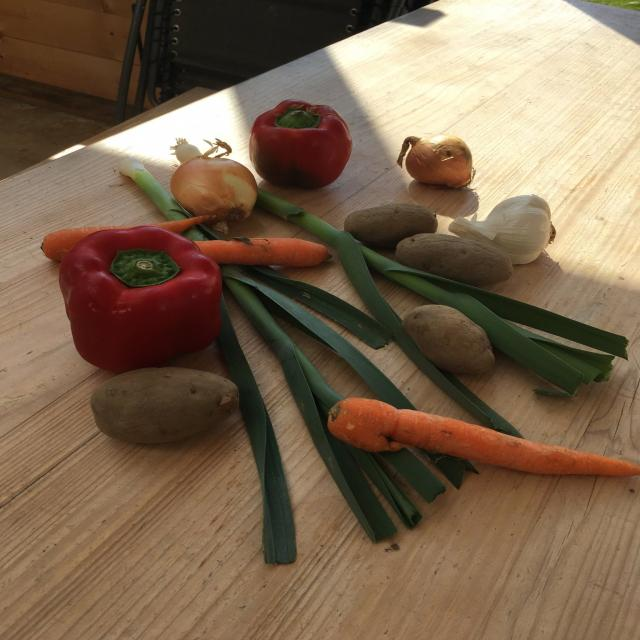carrot: (326, 394, 640, 484), (37, 210, 213, 262), (191, 239, 338, 268)
garlic: (450, 189, 563, 268)
leek: (109, 148, 472, 567), (173, 127, 616, 440)
onion: (168, 151, 262, 232), (387, 124, 488, 198)
pepper: (56, 223, 230, 372), (247, 96, 356, 202)
potato: (84, 363, 248, 450), (402, 300, 502, 384), (387, 229, 518, 285), (340, 198, 442, 252)
